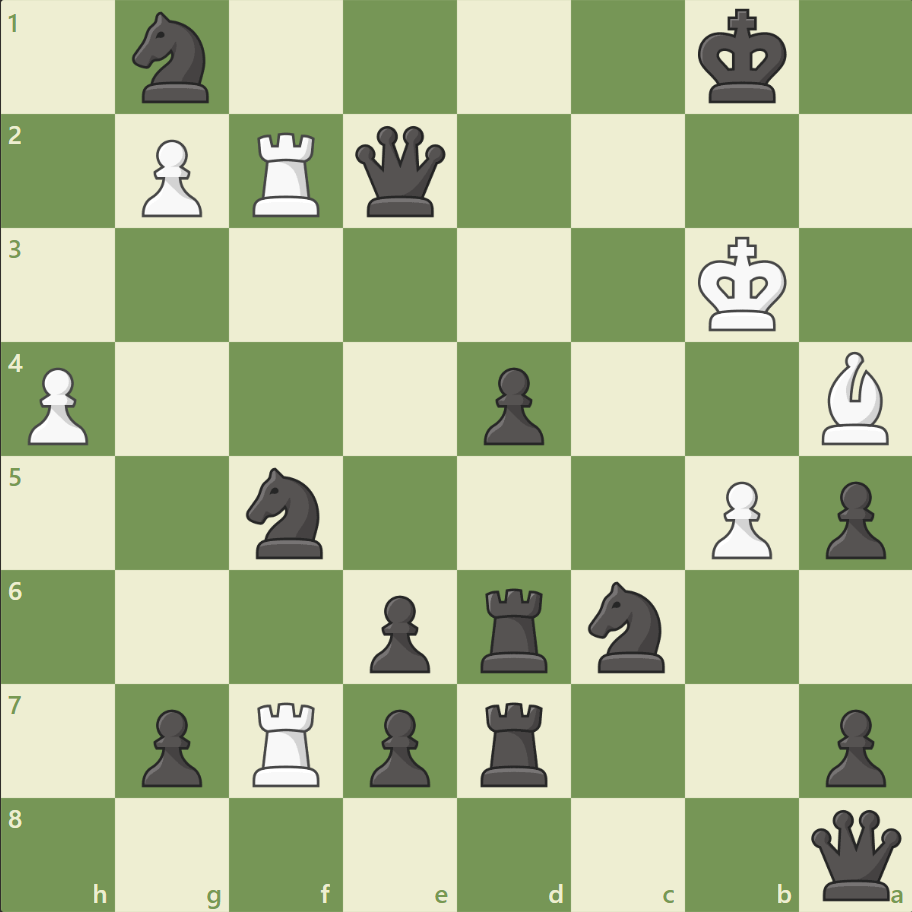B: (812, 347, 896, 449)
K: (692, 231, 792, 339)
P: (701, 473, 776, 564), (20, 359, 95, 450), (133, 132, 208, 223)
R: (246, 693, 329, 790), (246, 125, 329, 222)
k: (692, 4, 792, 112)
n: (124, 7, 222, 110), (238, 461, 335, 564), (579, 575, 676, 677)
p: (133, 700, 208, 791), (474, 359, 549, 450), (815, 700, 889, 791), (361, 700, 435, 791), (361, 586, 435, 677), (815, 473, 889, 564)
q: (351, 122, 450, 222), (805, 804, 904, 903)
r: (473, 693, 556, 790), (473, 579, 556, 676)
